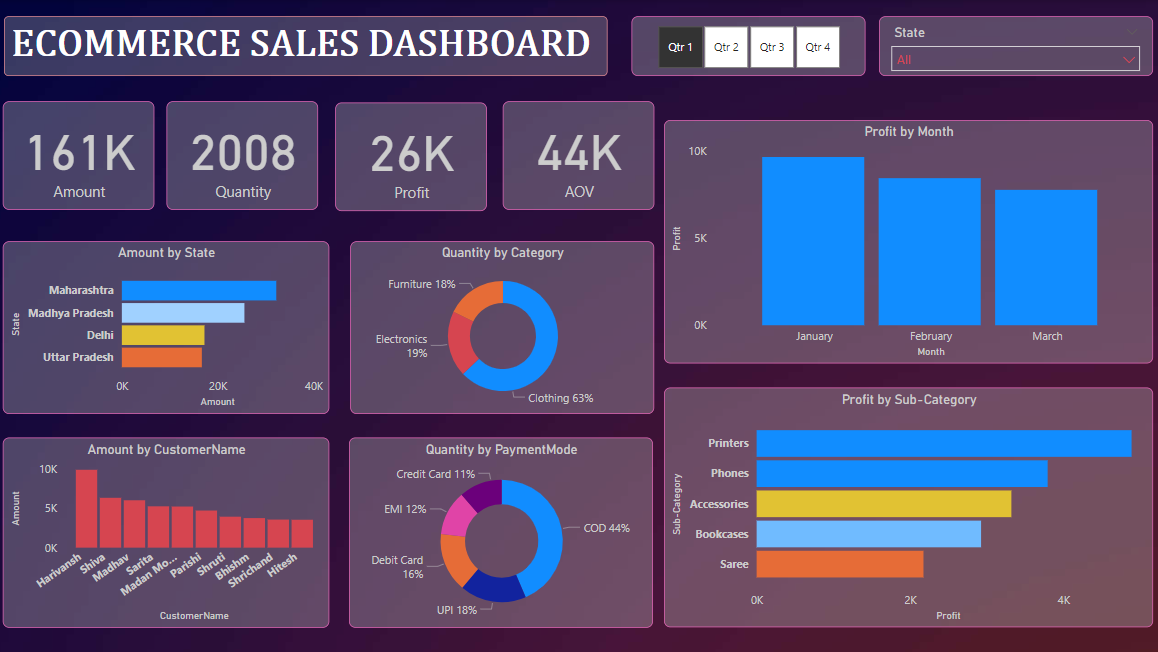

Layout of this report page (visuals, bound fields, positions):
{"tool":"powerbi","page":{"name":"Page 1","canvas":[1280,720],"ordinal":0},"visuals":[{"type":"textbox","box":[11,17.8,662.6,65.9],"z":0},{"type":"columnChart","fields":{"Y":["Details.Profit"],"Category":["Orders.Order Date.Variation.Date Hierarchy.Month"]},"box":[735.3,131.7,536.4,267.5],"z":1000},{"type":"barChart","fields":{"Category":["Details.Sub-Category"],"Y":["Details.Profit"]},"box":[735.3,425.3,536.4,263.4],"z":2000},{"type":"donutChart","fields":{"Category":["Details.Category"],"Y":["Details.Quantity"]},"box":[391,264.8,333.4,189.3],"z":3000},{"type":"donutChart","fields":{"Y":["Details.Quantity"],"Category":["Details.PaymentMode"]},"box":[389.6,480.2,333.4,208.5],"z":4000},{"type":"card","fields":{"Values":["Details.Amount"]},"box":[9.6,111.1,166,119.4],"z":5000},{"type":"card","fields":{"Values":["Details.Profit"]},"box":[374.5,112.5,166,119.4],"z":6000},{"type":"card","fields":{"Values":["Details.Quantity"]},"box":[189.3,111.1,166,119.4],"z":7000},{"type":"card","fields":{"Values":["Details.AOV"]},"box":[558.4,111.1,166,119.4],"z":8000},{"type":"barChart","fields":{"Category":["Orders.State"],"Y":["Details.Amount"]},"box":[9.6,264.8,358.1,189.3],"z":9000},{"type":"columnChart","fields":{"Category":["Orders.CustomerName"],"Y":["Details.Amount"]},"box":[10,480,358,209],"z":10000},{"type":"slicer","fields":{"Values":["Orders.Order Date.Variation.Date Hierarchy.Quarter"]},"box":[699.7,17.8,256.5,65.9],"z":11000},{"type":"slicer","fields":{"Values":["Orders.State"]},"box":[971.3,17.8,300.5,65.9],"z":12000}]}

Visuals, with their boxes in screenshot pixels (x1, y1, x2, y2), scaled from the page's 1280x720 canvas onto the 1158x652 screenshot:
textbox: box(10, 16, 609, 76)
columnChart - Details.Profit x Orders.Order Date.Variation.Date Hierarchy.Month: box(665, 119, 1150, 361)
barChart - Details.Sub-Category x Details.Profit: box(665, 385, 1150, 624)
donutChart - Details.Category x Details.Quantity: box(354, 240, 655, 411)
donutChart - Details.Quantity x Details.PaymentMode: box(352, 435, 654, 624)
card - Details.Amount: box(9, 101, 159, 209)
card - Details.Profit: box(339, 102, 489, 210)
card - Details.Quantity: box(171, 101, 321, 209)
card - Details.AOV: box(505, 101, 655, 209)
barChart - Orders.State x Details.Amount: box(9, 240, 333, 411)
columnChart - Orders.CustomerName x Details.Amount: box(9, 435, 333, 624)
slicer - Orders.Order Date.Variation.Date Hierarchy.Quarter: box(633, 16, 865, 76)
slicer - Orders.State: box(879, 16, 1151, 76)
